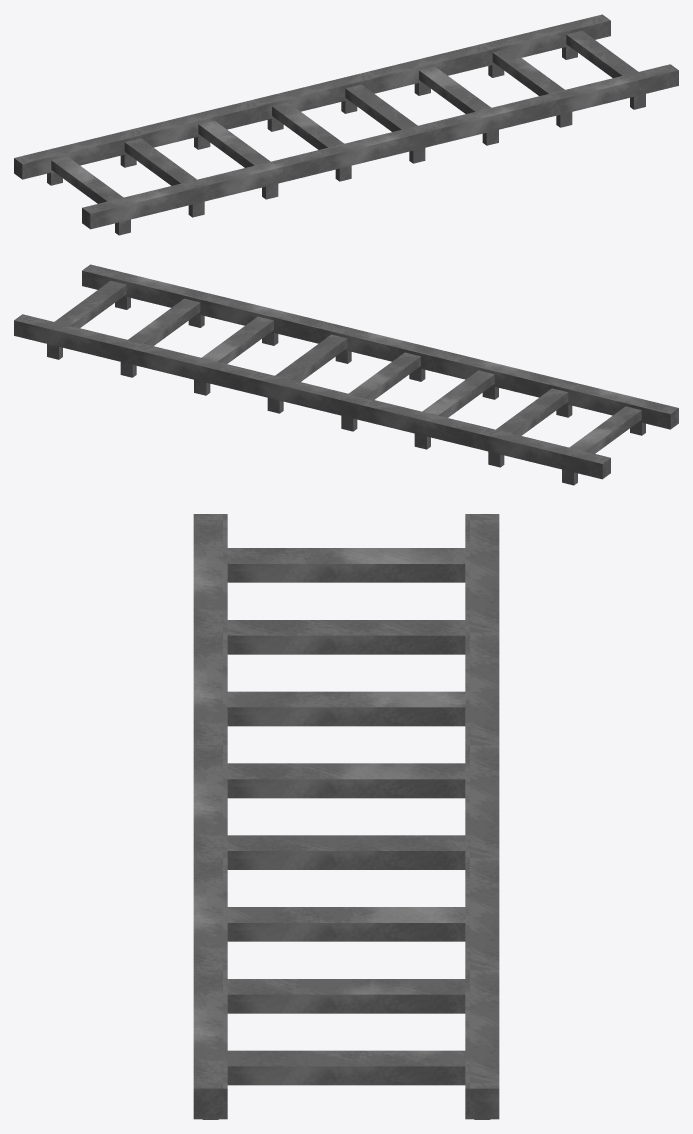
Rendered from ladder.FBX.
3 views of the same model, one above another, from view 1: azimuth 30°, elevation 25°; view 2: azimuth 150°, elevation 25°; view 3: azimuth 270°, elevation 25° (orthographic). The views are drawn at different scales.
Visible parts, largest first — view 1: Box001; view 2: Box001; view 3: Box001.
Part boxes in pixels (<box>): Box001: <box>14,14,678,235</box>; Box001: <box>14,264,678,485</box>; Box001: <box>193,514,499,1119</box>.
Size of the model in its own units: 2 by 0.0996 by 0.45.
1 material, 1 textured.
